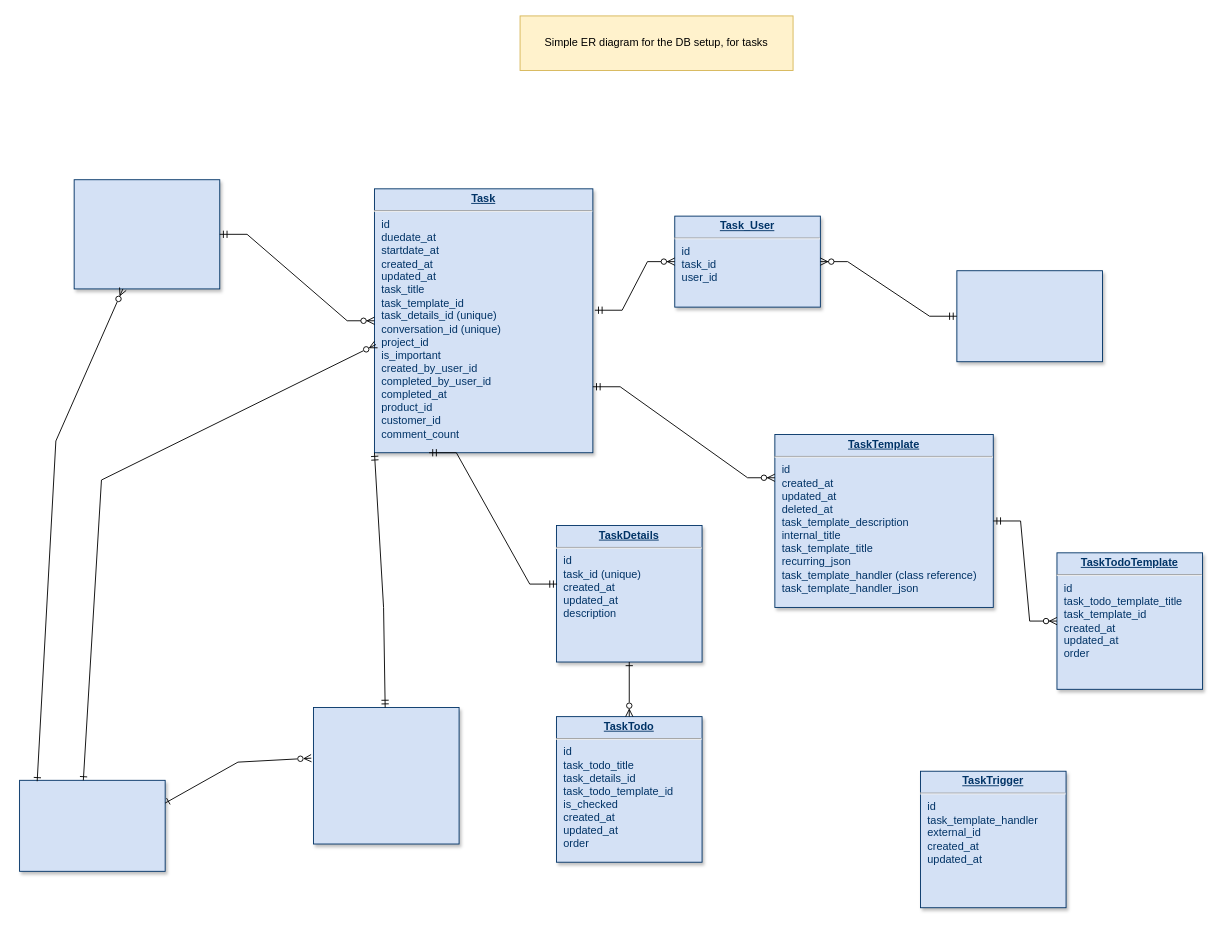
Image size: 1224x930. Some labels were removed from this diagram. Each missing label, with the centre of its shape:
"Conversation id created_at updated_at customer_id" belongs at (387,776).
"Customer id tenant_id" belongs at (93,827).
"Project id created_at updated_at customer_id" belongs at (147,235).
"User id name email tenant_id" belongs at (1030,317).
